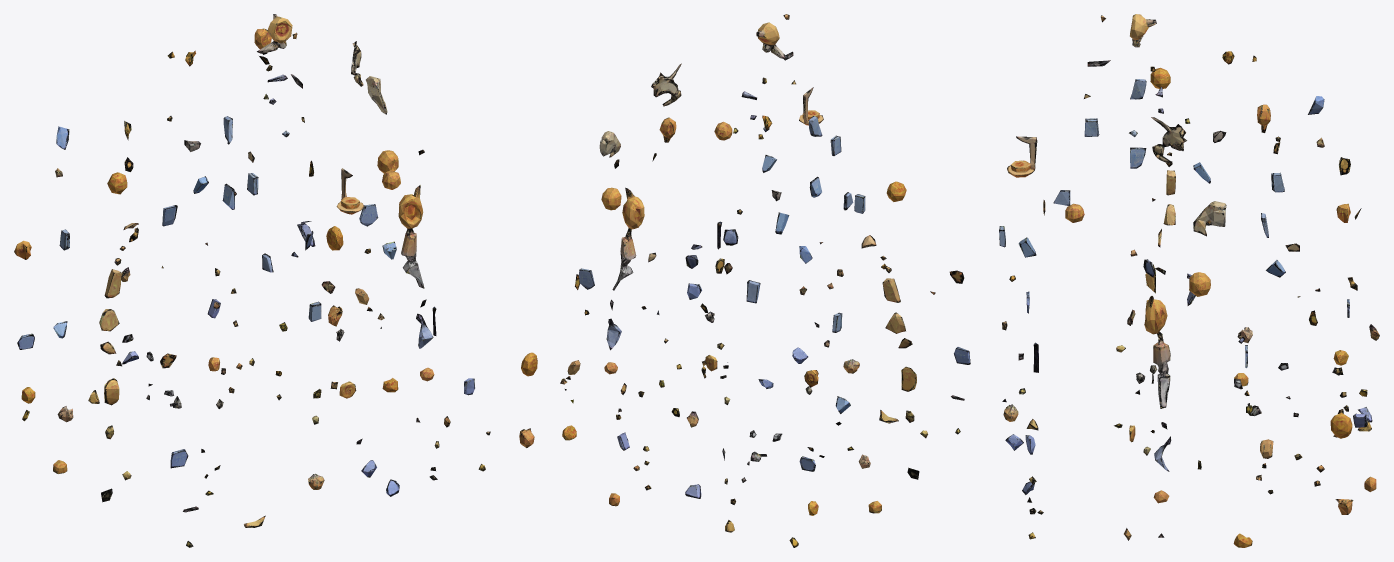
The model's file is vfx_currency_collect_euro.glb.
3 renders of one model, left to right at view 1: azimuth 30°, elevation 25°; view 2: azimuth 150°, elevation 25°; view 3: azimuth 270°, elevation 25°, orthographic. The views are drawn at different scales.
Parts seen in each view (by area): view 1: world; view 2: world; view 3: world.
Boxes of the visible parts, x1,y1,x2,y2 form: world: (14,14,490,547); world: (519,14,970,547); world: (999,14,1379,547).
Size of the model in its own units: 0.7952 by 0.9986 by 0.762.
1 material, 1 textured.
